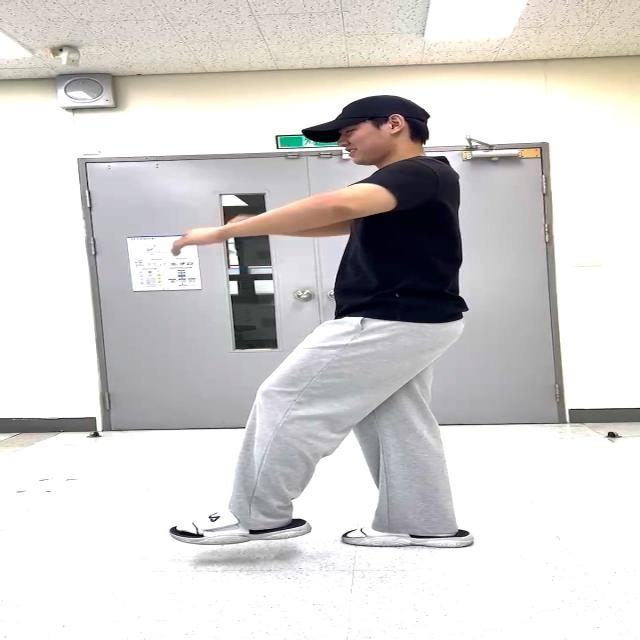leg: (215, 304, 368, 554)
